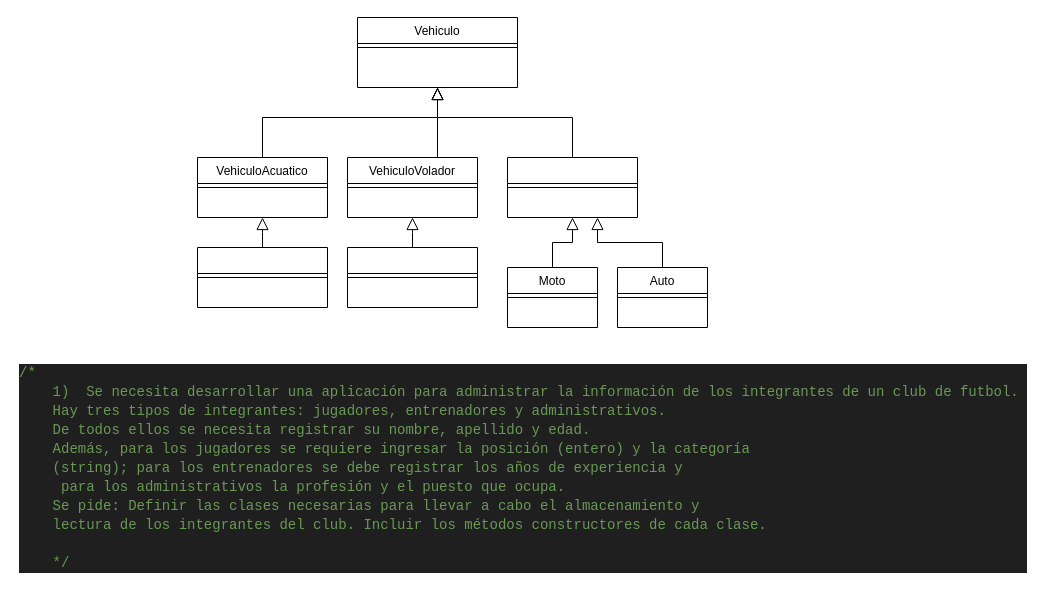
This 1044x605 diagram has some shape labels left out. The shapes that lost their labels are listed below. From the top down, each one's centre as x and y in pixels, then its label:
point 572,187: VehiculoTerrestre
point 262,277: Lancha
point 412,277: Avion
